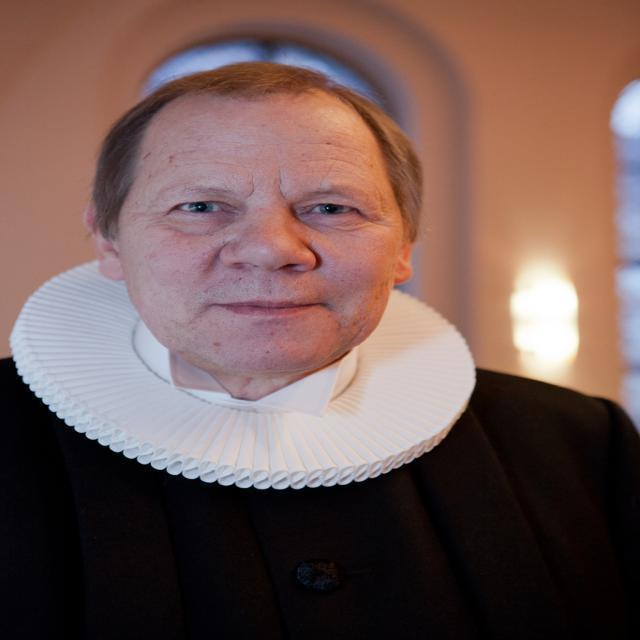closed-mouth: (209, 300, 327, 316)
